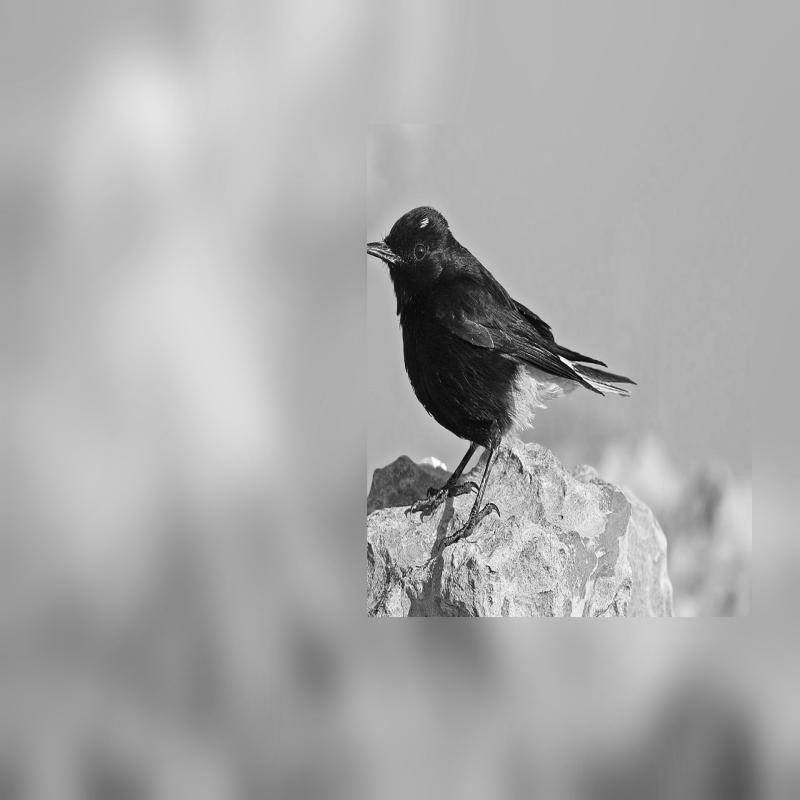white-crowned wheatear: (362, 187, 647, 482)
